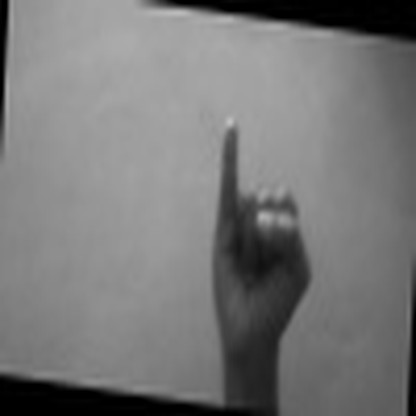i: (194, 112, 314, 367)
